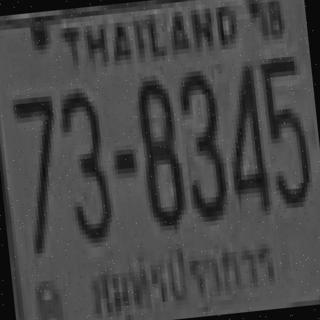N03: (56, 89, 114, 243), (174, 65, 226, 218)
N04: (220, 60, 269, 214)
N05: (256, 51, 311, 205)
N07: (11, 93, 66, 252), (10, 91, 62, 222)
N08: (133, 74, 185, 227)
P57: (86, 230, 283, 317)
